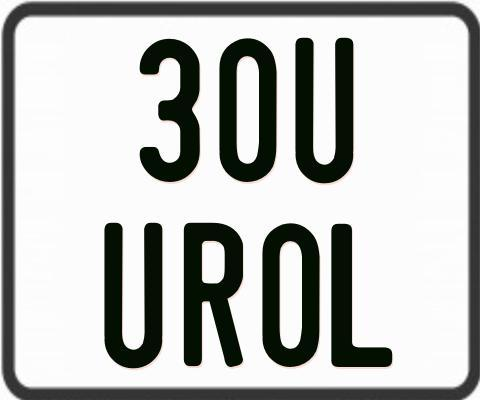0: (217, 38, 279, 187), (261, 220, 325, 364)
3: (137, 39, 197, 182)
L: (330, 223, 391, 372)
R: (182, 222, 242, 369)
U: (292, 36, 356, 185), (103, 223, 164, 371)
